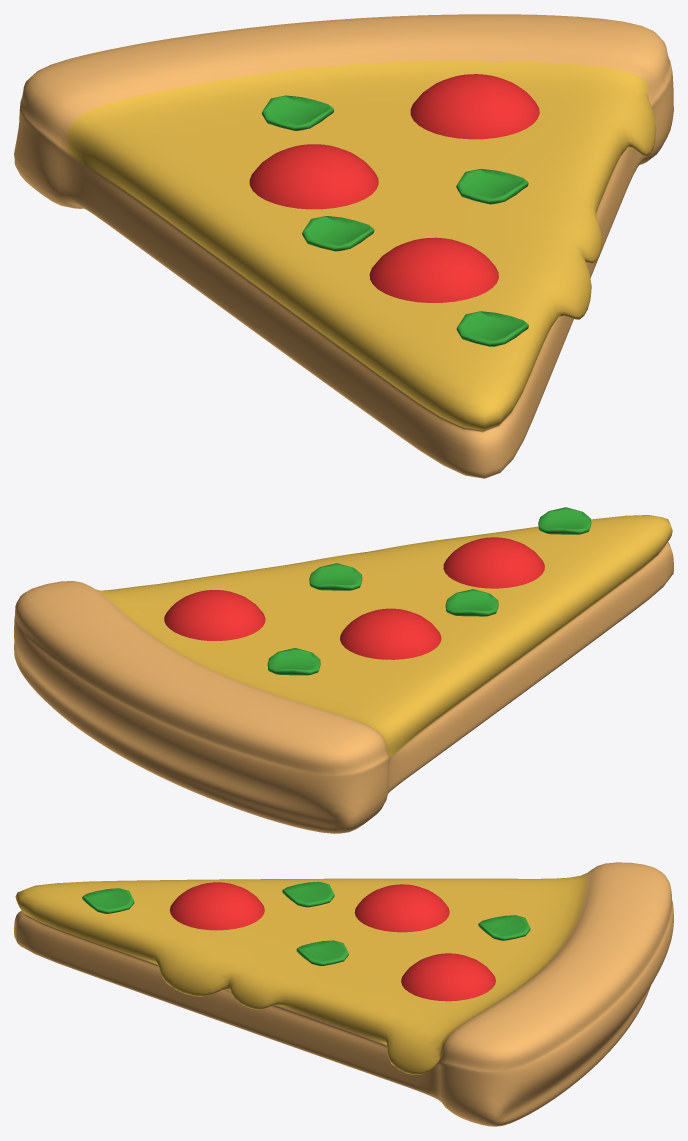
File: Pizza_01.fbx
3 views of the same model, one above another, from view 1: azimuth 30°, elevation 25°; view 2: azimuth 150°, elevation 25°; view 3: azimuth 270°, elevation 25° (orthographic). The views are drawn at different scales.
Visible parts, largest first — view 1: Pizza; view 2: Pizza; view 3: Pizza.
Boxes of the visible parts, x1=… form: Pizza: x1=14, y1=14, x2=673, y2=478; Pizza: x1=14, y1=507, x2=673, y2=833; Pizza: x1=14, y1=862, x2=673, y2=1126.
Size of the model in its own units: 62.3 by 15.22 by 87.88.
